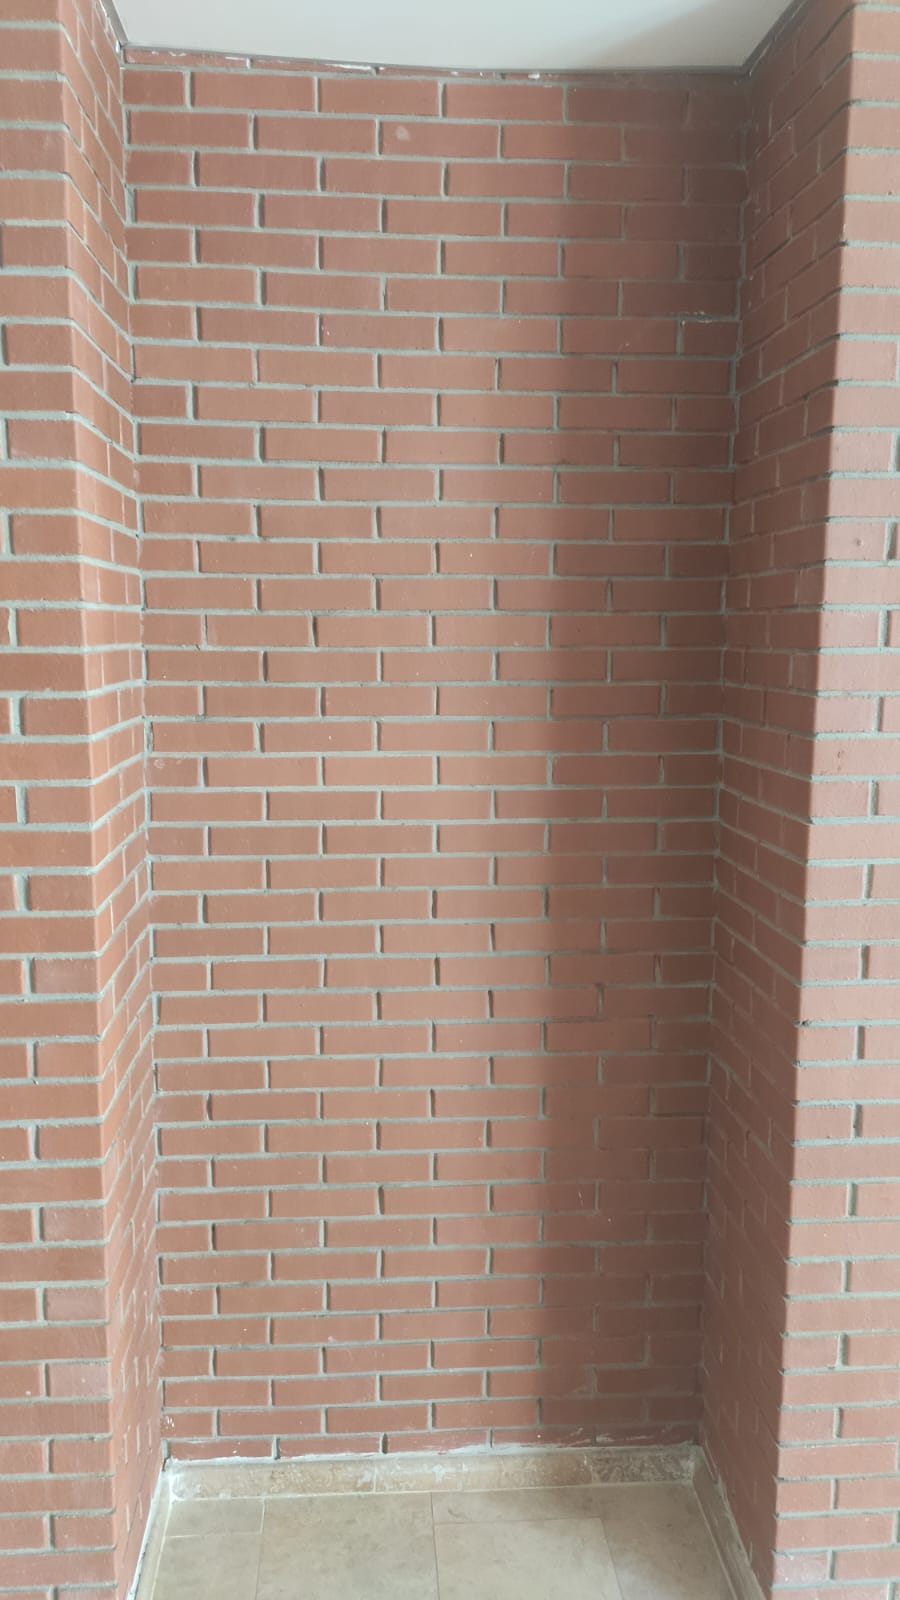redbrick: (190, 141, 323, 192), (438, 81, 567, 127), (610, 427, 737, 474), (484, 715, 612, 760), (504, 195, 624, 243), (257, 189, 384, 234), (190, 381, 315, 426), (436, 390, 560, 435), (429, 605, 549, 651), (140, 493, 260, 537), (538, 945, 659, 989), (254, 114, 377, 156), (197, 459, 322, 500), (262, 644, 384, 686), (431, 538, 554, 579), (487, 785, 603, 827), (319, 236, 441, 277), (253, 571, 381, 610), (259, 719, 388, 757), (202, 886, 318, 929), (600, 716, 722, 756), (3, 316, 78, 380), (605, 644, 725, 684), (368, 911, 491, 949), (625, 125, 747, 164), (204, 1023, 323, 1062), (262, 785, 379, 823), (501, 284, 621, 321), (438, 468, 559, 504), (377, 851, 490, 889), (157, 1314, 274, 1352), (374, 1307, 491, 1343), (547, 818, 657, 856), (445, 162, 573, 195), (537, 1085, 652, 1121), (315, 820, 433, 855), (820, 604, 890, 662), (23, 1115, 105, 1164), (811, 771, 878, 831), (323, 313, 443, 346), (269, 1370, 381, 1405), (269, 1184, 385, 1218), (823, 514, 898, 566), (370, 989, 484, 1023), (133, 269, 263, 299), (815, 688, 891, 738), (802, 854, 873, 908), (268, 1120, 379, 1154), (591, 1304, 705, 1337), (211, 1405, 325, 1438), (11, 509, 85, 558), (795, 1100, 865, 1152), (485, 1369, 598, 1401), (427, 1149, 540, 1181), (46, 1510, 121, 1557), (589, 1182, 712, 1211), (116, 62, 189, 110), (126, 301, 198, 349), (789, 1178, 862, 1225), (370, 1057, 489, 1086), (427, 1398, 542, 1427), (133, 529, 203, 576), (784, 1252, 854, 1297), (4, 419, 76, 462), (800, 1023, 859, 1074), (3, 176, 65, 224), (51, 1432, 115, 1476), (40, 1204, 105, 1247), (45, 1358, 110, 1399), (38, 1286, 109, 1323), (31, 1038, 96, 1075), (637, 1390, 698, 1427), (149, 754, 209, 786)
